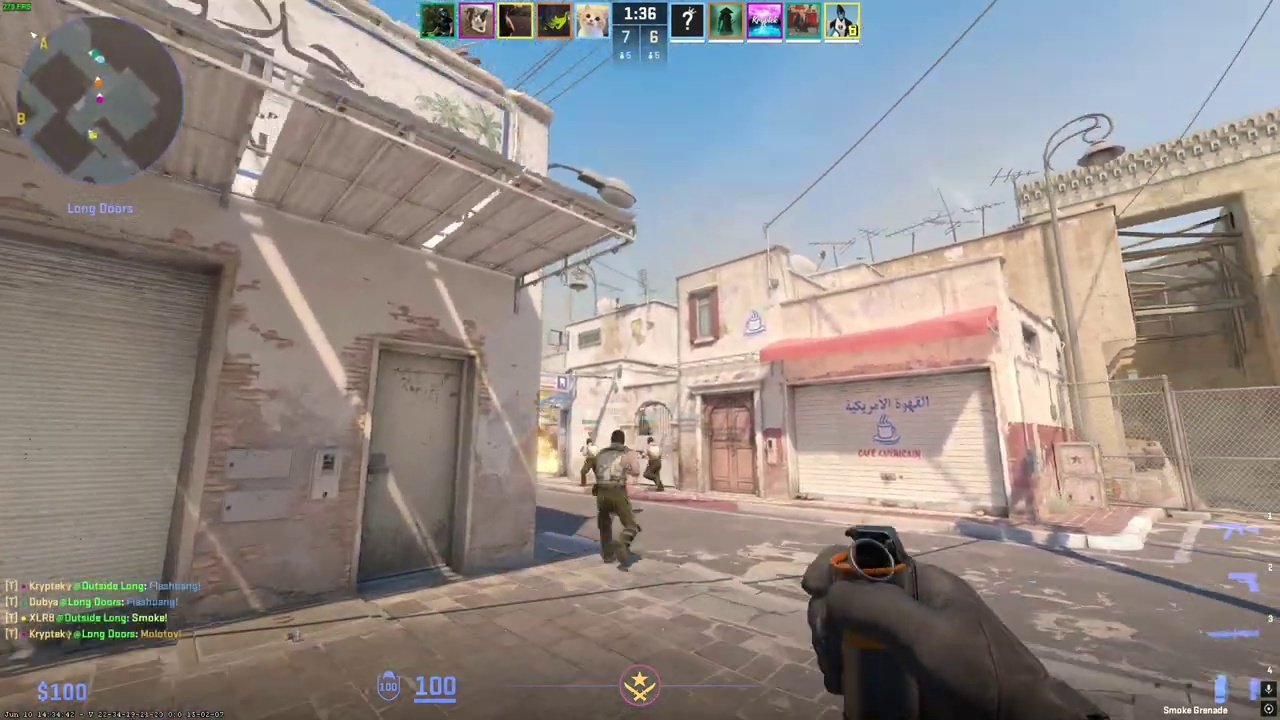Terrorist: (591, 429, 642, 564), (641, 437, 664, 492), (580, 438, 598, 487)
